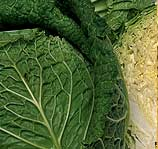cabbage: (0, 1, 132, 148), (110, 3, 157, 147), (94, 0, 157, 35)
